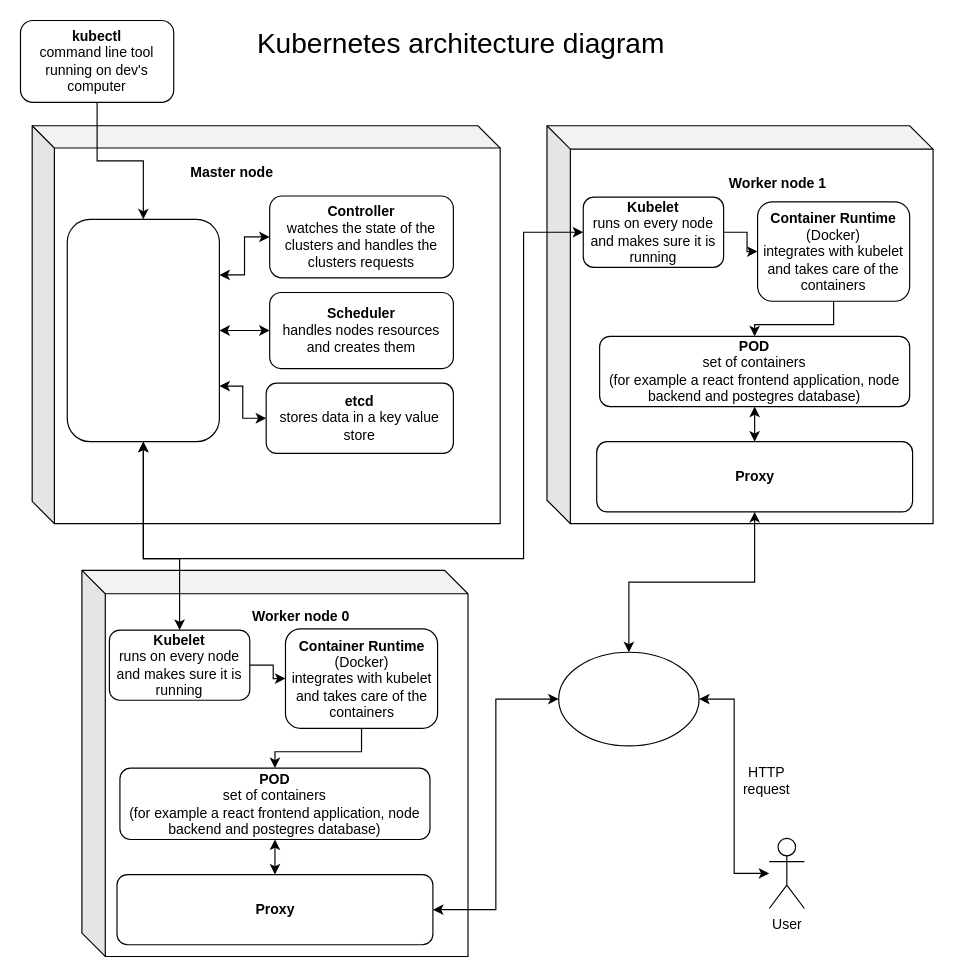
Some shapes in this 954 by 977 pixel diagram are drawn without their labels. Each missing label, with the centre of its shape:
"API server aka. kube-apiserver exposes the master node to kubectl" goes at point 142,330.
"Loadbalancer distributes traffice evenly between worker nodes" goes at point 628,698.
